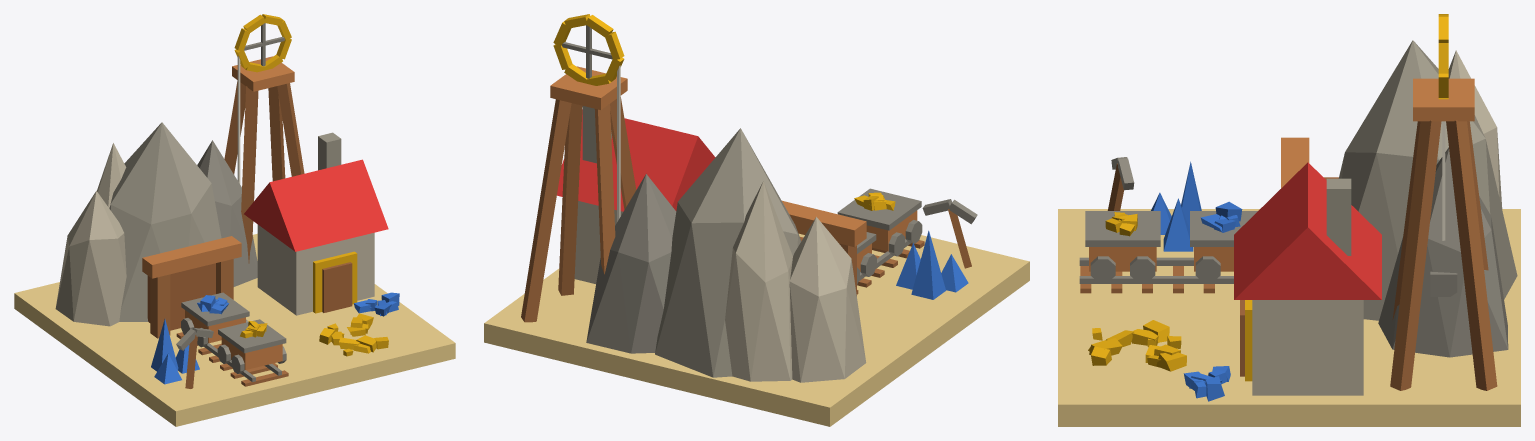
Rendered from mine_t3_v1.glb.
3 views of the same model, side by side, from view 1: azimuth 30°, elevation 25°; view 2: azimuth 150°, elevation 25°; view 3: azimuth 270°, elevation 25° (orthographic). The views are drawn at different scales.
Parts seen in each view (by area): view 1: mine_t3_v1; view 2: mine_t3_v1; view 3: mine_t3_v1.
Boxes of the visible parts, x1,y1,x2,y2 form: mine_t3_v1: (14, 14, 455, 426); mine_t3_v1: (484, 14, 1029, 426); mine_t3_v1: (1058, 14, 1520, 426).
Bounding box in the file's own units: 0.75 × 0.6624 × 0.75.
Materials: 1 (1 with a texture image).
